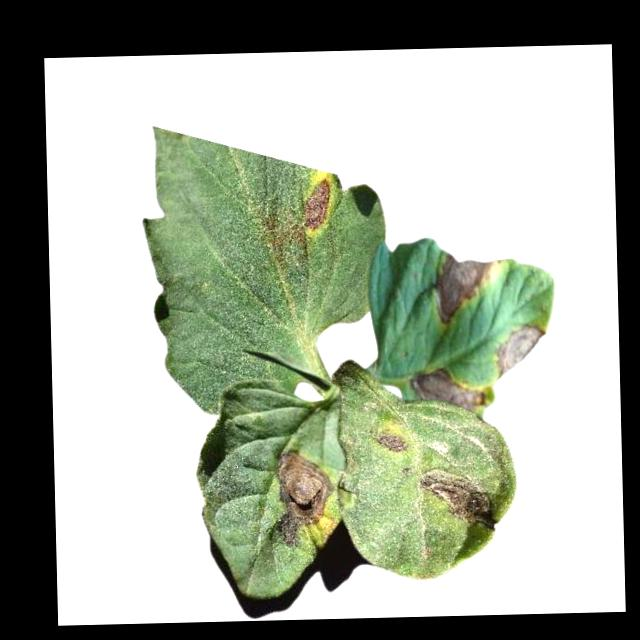Early_blight: (270, 445, 335, 546), (419, 465, 497, 530), (432, 249, 499, 323), (408, 362, 489, 411), (494, 320, 549, 378), (301, 175, 335, 234), (375, 425, 405, 455)
